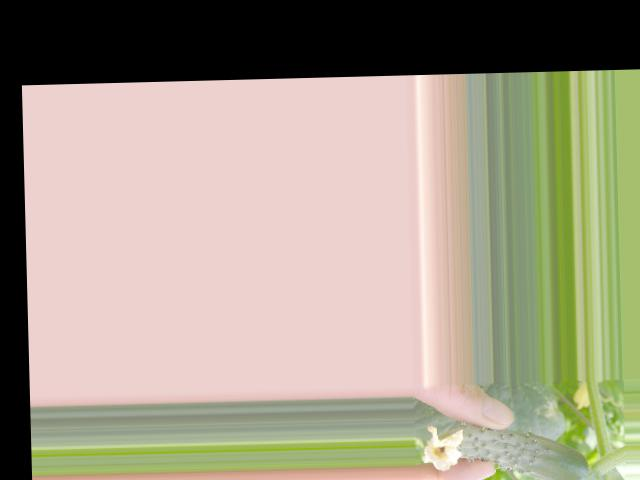cucumber: (423, 421, 590, 480)
